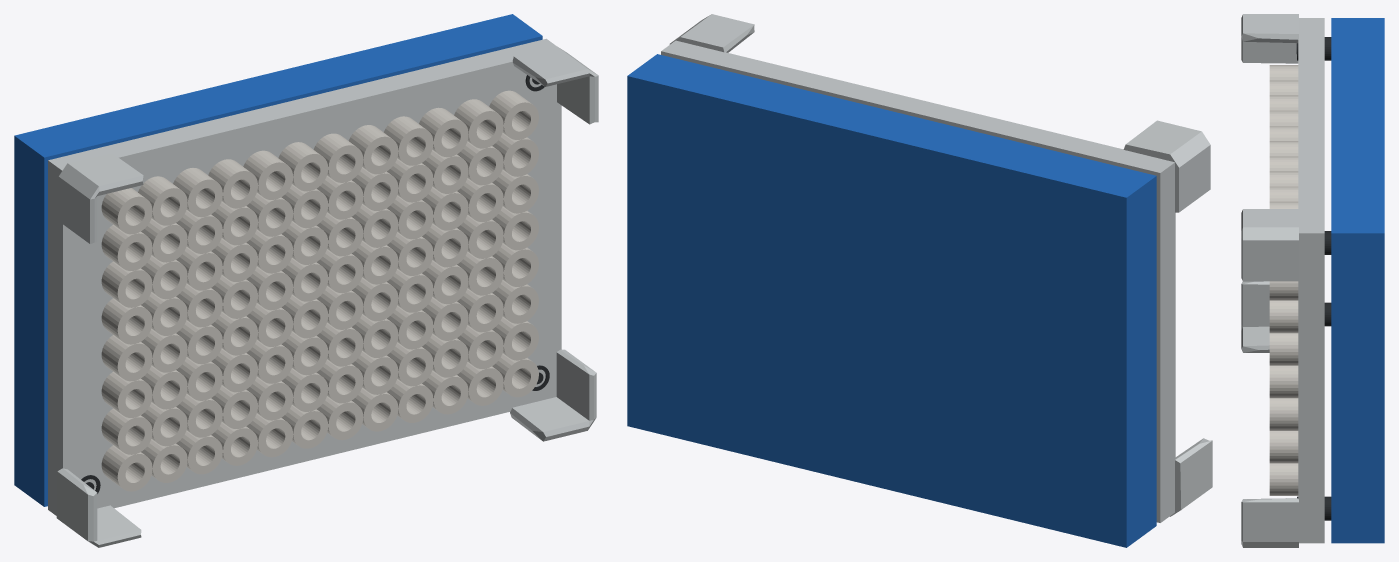
File: alpaqua_96_plateadapter_magnum_ex.glb
The picture shows the model from 3 angles, left to right: view 1: azimuth 30°, elevation 25°; view 2: azimuth 150°, elevation 25°; view 3: azimuth 270°, elevation 25°; orthographic projection. The views are drawn at different scales.
Parts seen in each view (by area): view 1: nickel_plated, satin_aluminum, alpaqua_blue_anodized; view 2: alpaqua_blue_anodized, satin_aluminum; view 3: alpaqua_blue_anodized, satin_aluminum, nickel_plated, dark_anodized.
Part boxes in pixels (x1=…): nickel_plated: x1=101, y1=90, x2=538, y2=491; satin_aluminum: x1=48, y1=38, x2=598, y2=547; alpaqua_blue_anodized: x1=14, y1=14, x2=542, y2=506; alpaqua_blue_anodized: x1=627, y1=54, x2=1156, y2=547; satin_aluminum: x1=661, y1=14, x2=1212, y2=522; alpaqua_blue_anodized: x1=1331, y1=18, x2=1384, y2=543; satin_aluminum: x1=1241, y1=14, x2=1324, y2=547; nickel_plated: x1=1269, y1=65, x2=1298, y2=495; dark_anodized: x1=1296, y1=37, x2=1331, y2=520.
Size of the model in its own units: 0.1309 by 0.0891 by 0.0359.
